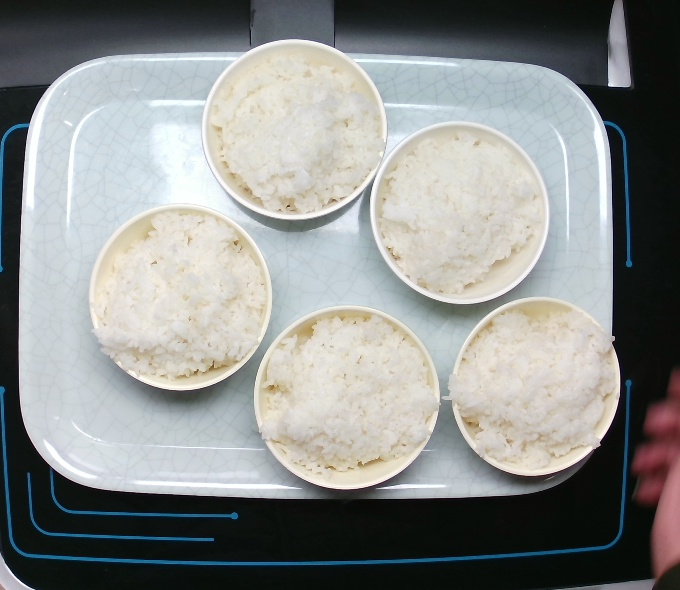wcq-MiFan: (258, 311, 439, 477), (86, 214, 260, 385), (375, 139, 542, 295), (451, 314, 618, 470), (208, 53, 375, 209)
